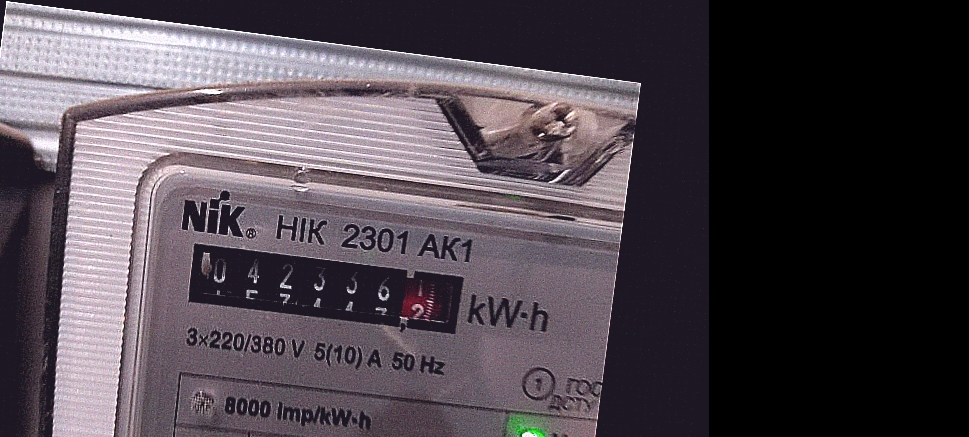0: (209, 254, 228, 284)
1: (412, 274, 427, 298)
2: (277, 259, 296, 290), (407, 300, 425, 320)
3: (341, 264, 360, 296), (309, 262, 327, 292)
4: (243, 254, 264, 285)
6: (374, 270, 395, 302)
screen: (173, 227, 477, 346)
